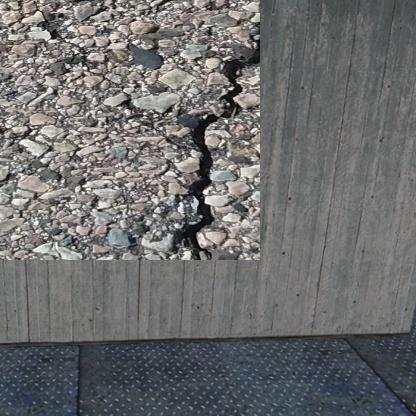Cracks: (155, 22, 240, 240)
